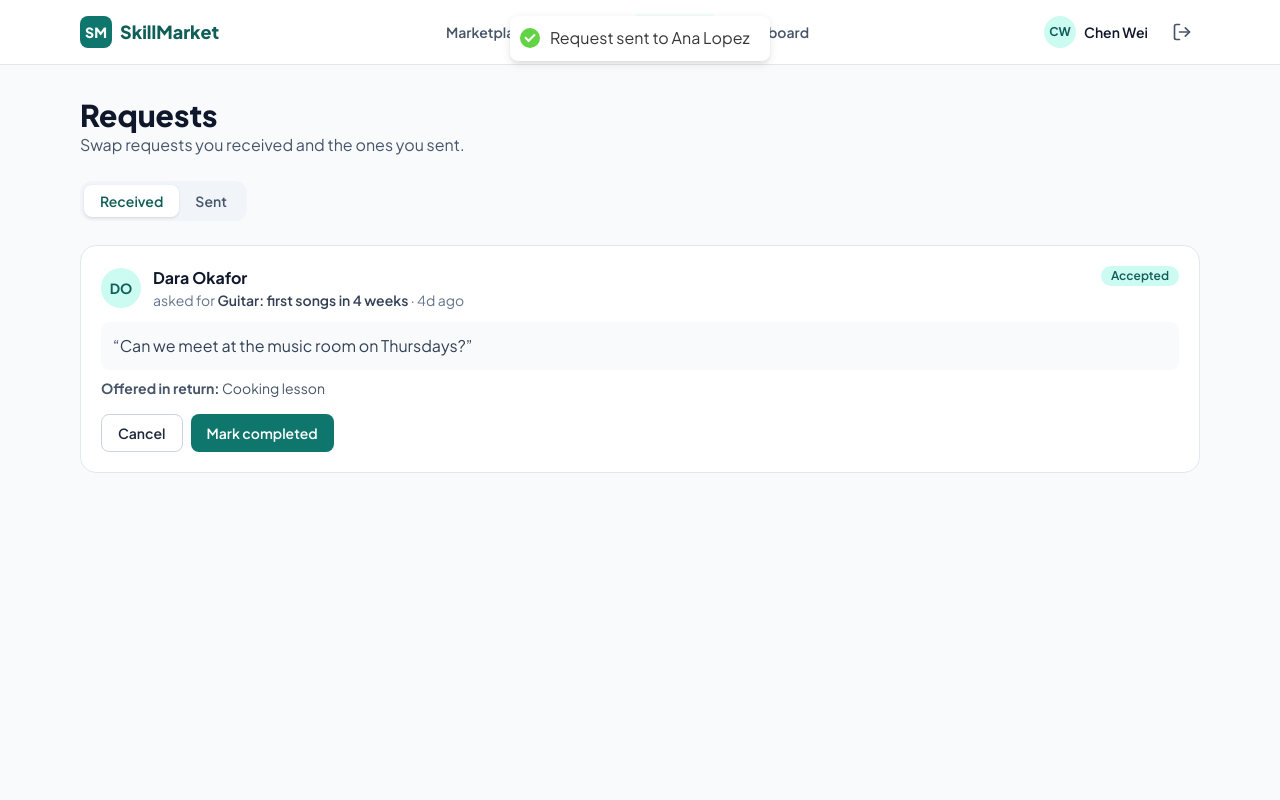
Test: handling requests and reviews › accepted request: mark completed, then leave a review
Check: the text "Dara Okafor" is shown, box x1=153 y1=267 x2=247 y2=288
Check: the text "Accepted" is shown, box x1=1101 y1=266 x2=1179 y2=286
Click the button "Mark completed" at (262, 433), box x1=190 y1=414 x2=334 y2=452
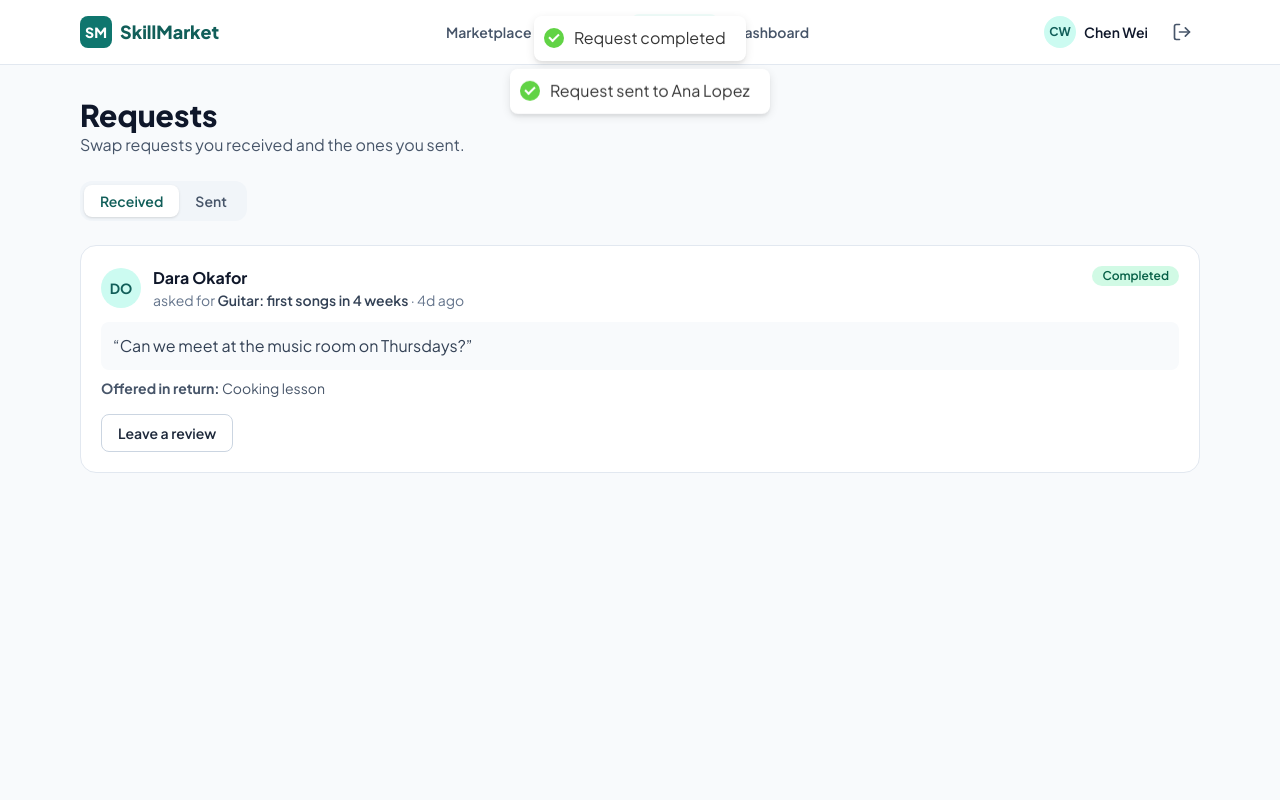
Check: the text "Completed" is shown, box x1=1092 y1=266 x2=1179 y2=286
Click the button "Leave a review" at (167, 433), box x1=101 y1=414 x2=233 y2=452
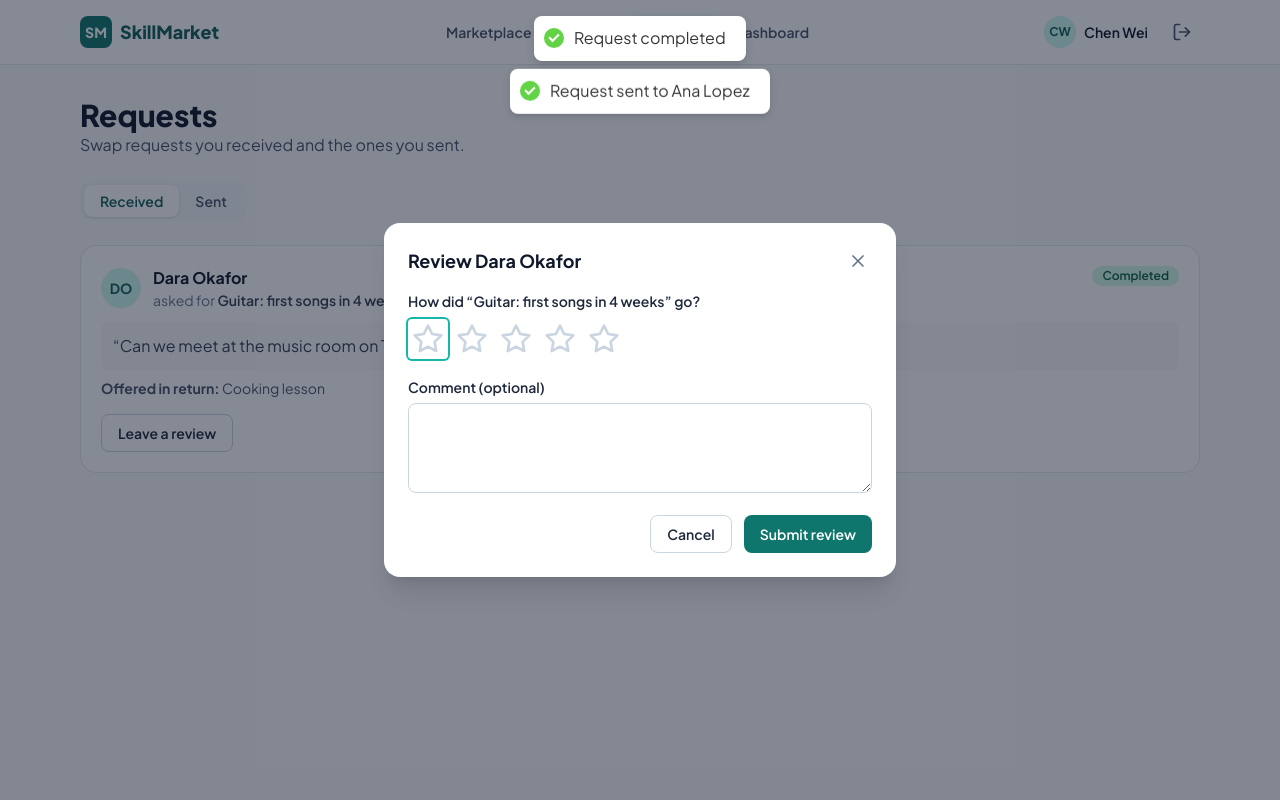
Click the button "Submit review" at (808, 534), box x1=744 y1=515 x2=872 y2=553
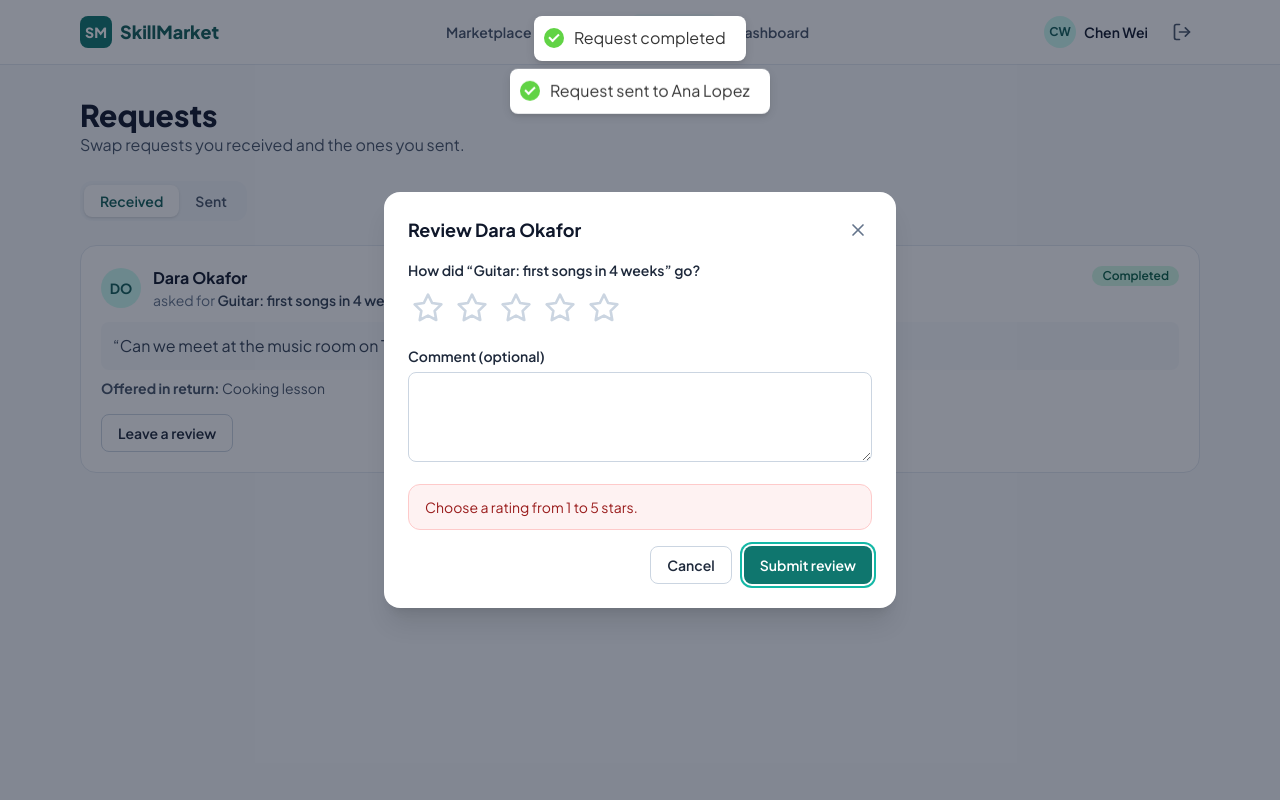
Check: the text "Choose a rating from 1 to 5 stars." is shown, box x1=425 y1=497 x2=638 y2=517
Click the radio button named "5 stars" at (604, 308), box x1=584 y1=288 x2=624 y2=328
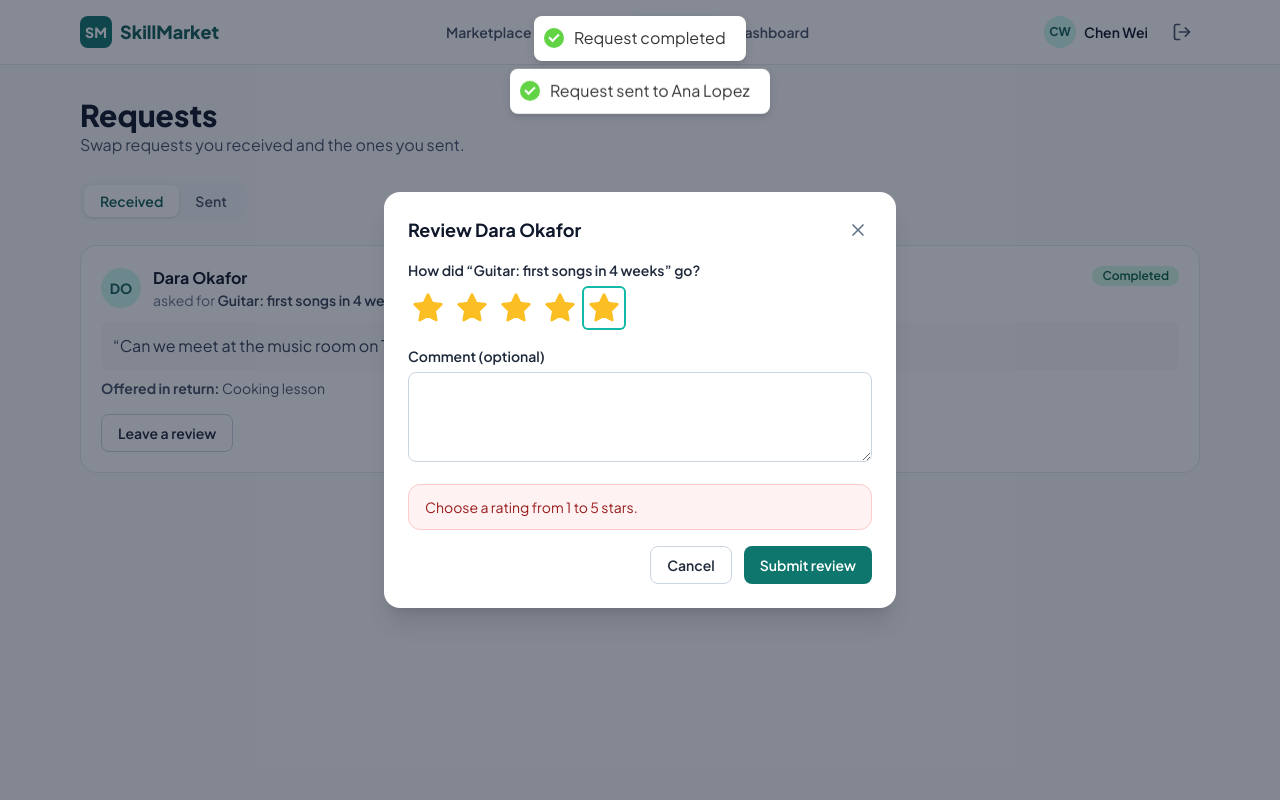
Type "Great cook!" into the text box labelled "Comment (optional)" at (640, 417), box x1=408 y1=372 x2=872 y2=462
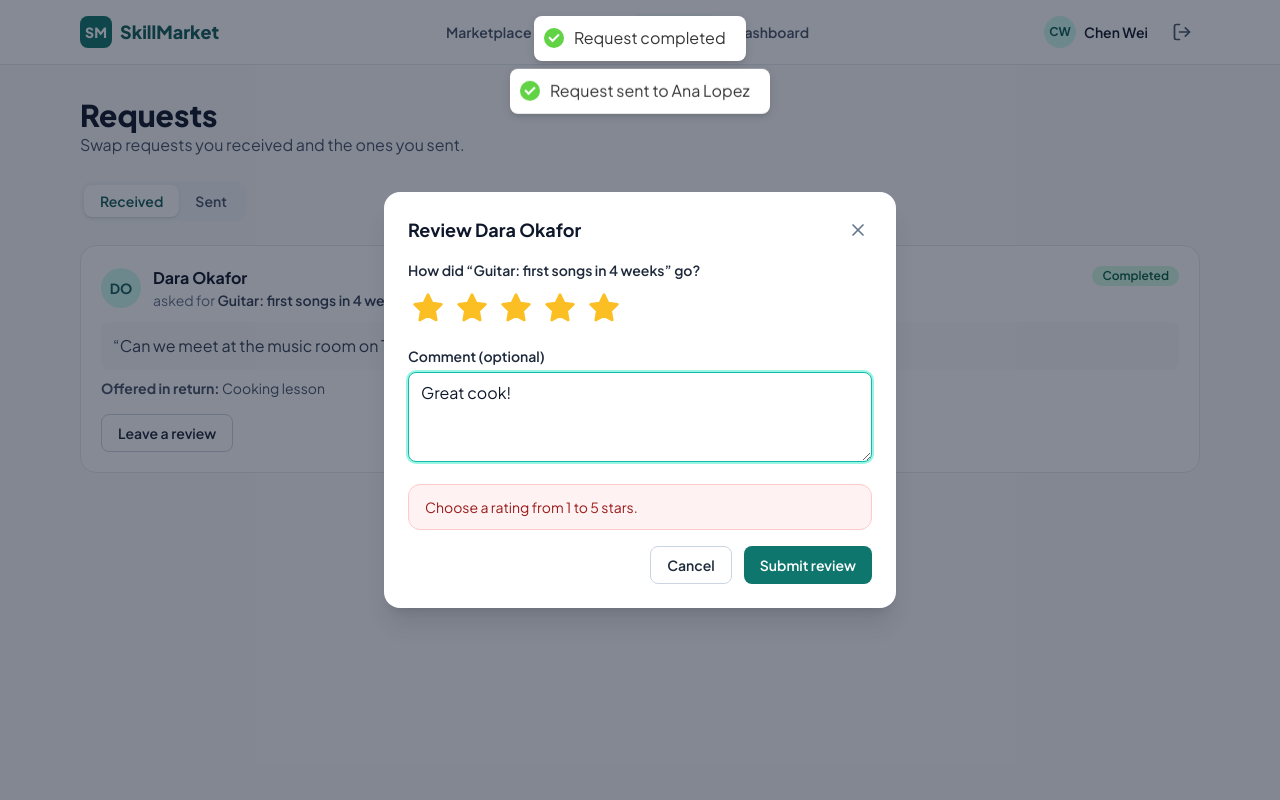
Click the button "Submit review" at (808, 565), box x1=744 y1=546 x2=872 y2=584
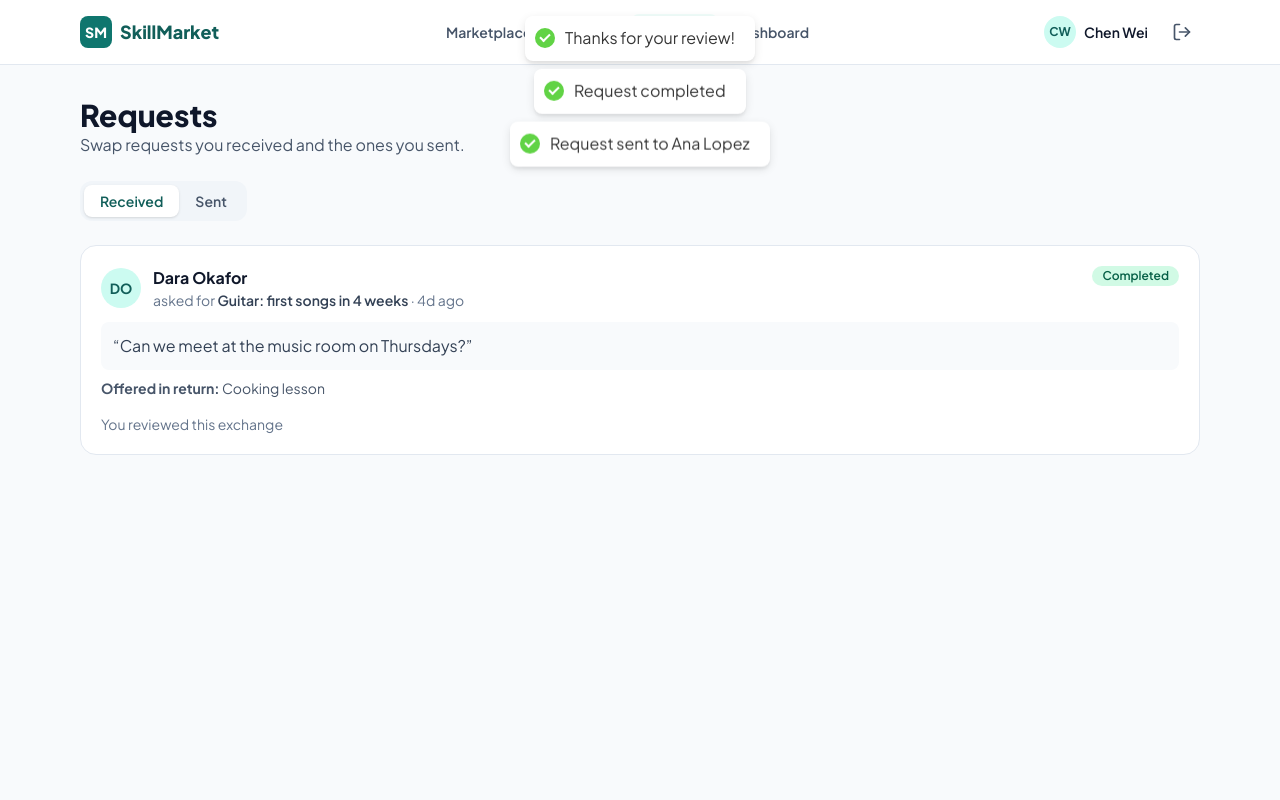
Check: the text "You reviewed this exchange" is shown, box x1=101 y1=414 x2=283 y2=434
